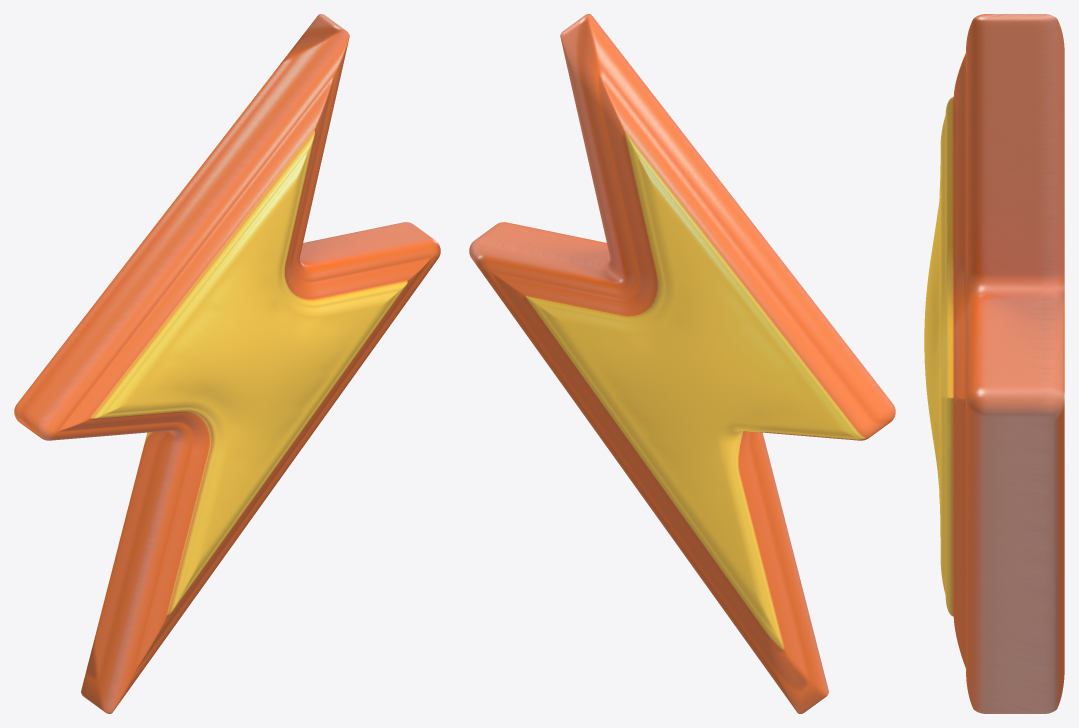
File: Frenzy_Charm.glb
The picture shows the model from 3 angles, left to right: view 1: azimuth 30°, elevation 25°; view 2: azimuth 150°, elevation 25°; view 3: azimuth 270°, elevation 25°; orthographic projection. The views are drawn at different scales.
Parts seen in each view (by area): view 1: FC_Bolt; view 2: FC_Bolt; view 3: FC_Bolt.
Boxes of the visible parts, bbox=[...] form: FC_Bolt: bbox=[14, 14, 440, 713]; FC_Bolt: bbox=[469, 14, 895, 713]; FC_Bolt: bbox=[924, 14, 1064, 713].
Size of the model in its own units: 1.26 by 1.87 by 0.277.
1 material, 1 textured.
